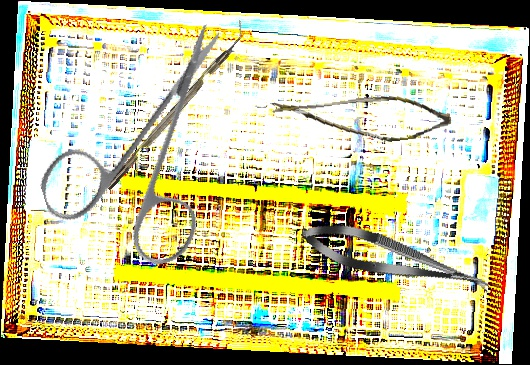Chopper: (97, 20, 253, 191)
Iris Scissors: (9, 21, 279, 292)
Micro Scissor: (296, 212, 495, 307), (270, 81, 453, 156)
